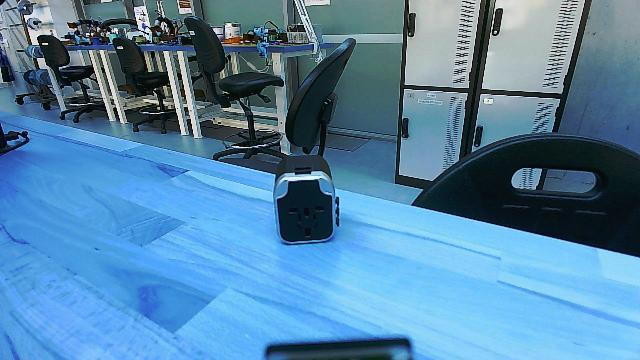adapter: (272, 149, 340, 246)
